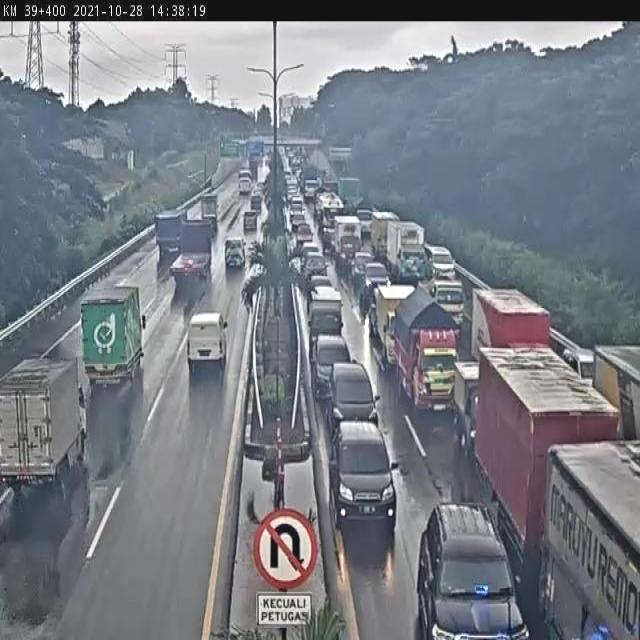Car: (416, 503, 528, 639), (329, 422, 398, 534), (328, 360, 381, 432), (451, 363, 481, 470), (312, 334, 352, 406), (307, 284, 342, 333), (430, 278, 464, 327), (362, 261, 391, 309), (425, 244, 454, 279), (352, 252, 376, 292), (302, 252, 328, 285), (320, 200, 339, 232), (295, 222, 314, 250), (356, 210, 373, 240), (290, 201, 306, 227), (303, 176, 321, 199), (323, 226, 337, 254), (258, 171, 270, 197), (321, 179, 339, 196), (285, 179, 297, 202), (250, 192, 262, 212), (285, 147, 297, 166), (238, 168, 252, 183), (294, 167, 304, 186), (283, 167, 292, 186), (262, 153, 271, 170)
Truck: (538, 443, 638, 640), (0, 356, 88, 516), (80, 284, 144, 392), (472, 287, 549, 362), (168, 216, 214, 292), (154, 210, 184, 266), (200, 194, 218, 234)
Van: (186, 312, 228, 379)
